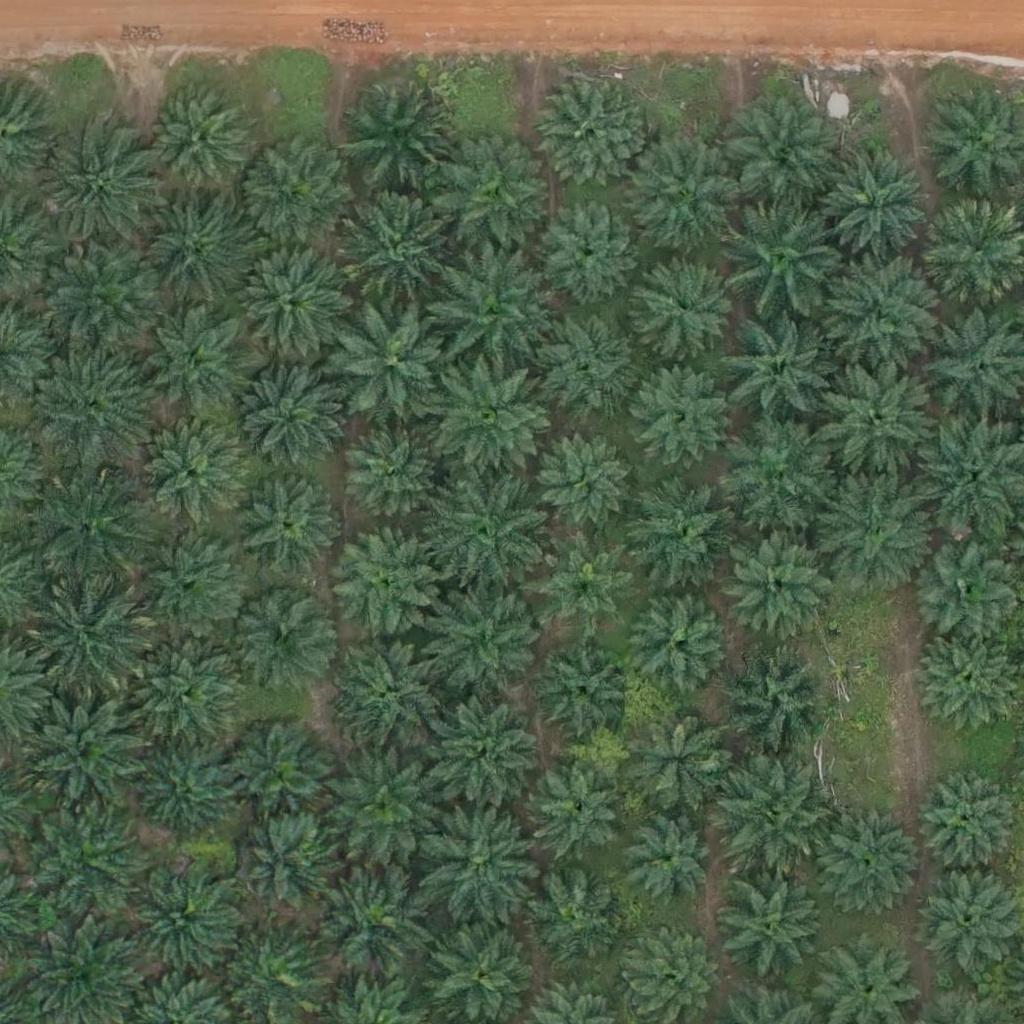Kelapa_Sawit: (811, 806, 924, 920), (822, 148, 935, 262), (822, 357, 935, 471), (721, 417, 834, 531), (438, 358, 551, 472), (335, 302, 448, 416), (143, 307, 256, 421), (30, 700, 143, 814), (818, 262, 931, 375), (815, 476, 928, 589), (728, 199, 841, 312), (626, 473, 739, 586), (718, 769, 831, 882), (535, 80, 648, 193), (433, 141, 546, 254), (418, 817, 531, 930), (325, 749, 438, 862), (332, 633, 445, 746), (324, 522, 437, 635), (236, 137, 349, 250), (237, 241, 350, 354), (230, 473, 343, 586), (225, 581, 338, 694), (222, 715, 335, 828), (123, 639, 236, 752), (134, 196, 247, 309), (48, 242, 161, 355), (28, 346, 141, 459), (632, 137, 744, 251), (433, 587, 545, 701), (141, 415, 253, 529), (728, 537, 840, 650), (722, 312, 834, 425), (726, 100, 838, 213), (716, 640, 828, 753), (526, 308, 638, 421), (436, 256, 548, 369), (432, 476, 544, 589), (429, 693, 541, 806), (315, 874, 427, 987), (345, 77, 457, 190), (338, 188, 450, 301), (231, 366, 343, 479), (135, 859, 247, 972), (134, 527, 246, 640), (42, 130, 154, 243), (35, 470, 147, 583), (36, 583, 148, 696), (28, 810, 140, 923), (922, 774, 1022, 875), (919, 867, 1019, 968), (917, 537, 1017, 638), (634, 253, 734, 354), (634, 599, 734, 700), (630, 710, 730, 811), (537, 634, 637, 735), (531, 426, 631, 527), (536, 194, 636, 295), (238, 812, 338, 913), (137, 748, 237, 849), (144, 90, 244, 191), (921, 628, 1021, 728), (633, 364, 733, 464), (722, 882, 822, 982), (530, 758, 630, 858), (536, 533, 636, 633), (340, 422, 440, 522), (528, 872, 616, 960), (624, 816, 711, 904)
